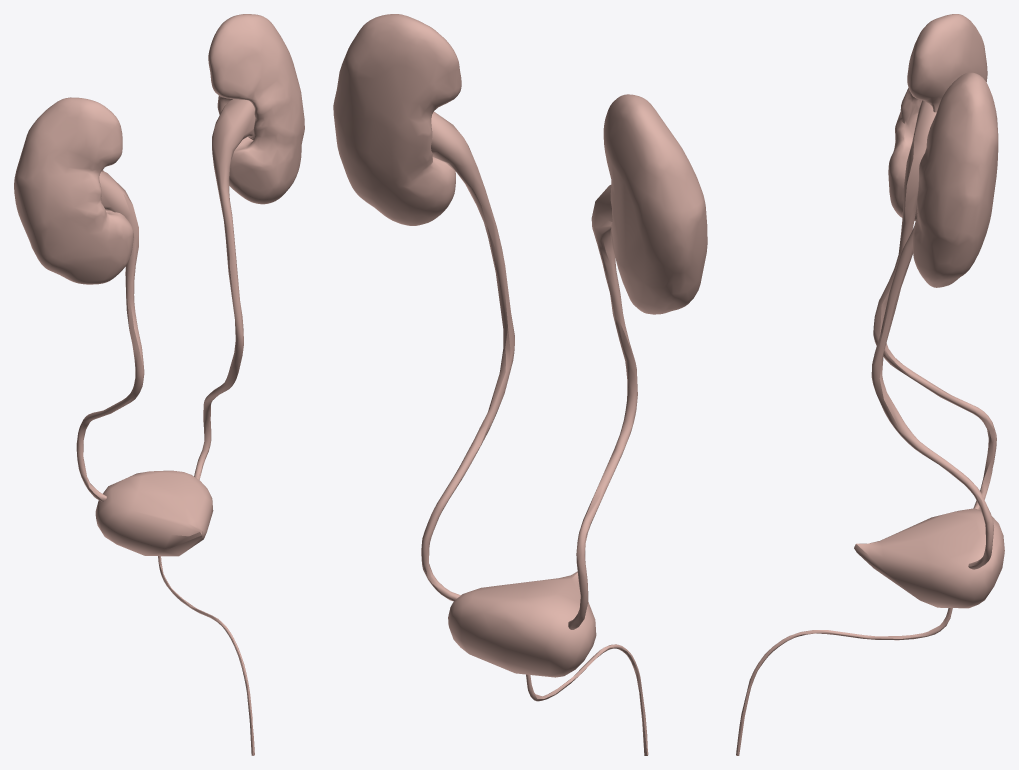
Rendered from organs.glb.
3 views of the same model, side by side, from view 1: azimuth 30°, elevation 25°; view 2: azimuth 150°, elevation 25°; view 3: azimuth 270°, elevation 25° (orthographic). The views are drawn at different scales.
Visible parts, largest first — view 1: bp3d_FMA7204_FJ3147, bp3d_FMA7205_FJ3145, bp3d_FMA15900_FJ3149, bp3d_FMA15572_FJ3144, bp3d_FMA15571_FJ3146, bp3d_FMA19667_FJ3148; view 2: bp3d_FMA7205_FJ3145, bp3d_FMA7204_FJ3147, bp3d_FMA15900_FJ3149, bp3d_FMA15572_FJ3144, bp3d_FMA15571_FJ3146, bp3d_FMA19667_FJ3148; view 3: bp3d_FMA7205_FJ3145, bp3d_FMA15900_FJ3149, bp3d_FMA7204_FJ3147, bp3d_FMA15571_FJ3146, bp3d_FMA15572_FJ3144, bp3d_FMA19667_FJ3148.
Part boxes in pixels (x1,y1,x2,y2): bp3d_FMA7204_FJ3147: [14, 97, 133, 284]; bp3d_FMA7205_FJ3145: [208, 14, 304, 204]; bp3d_FMA15900_FJ3149: [95, 470, 213, 556]; bp3d_FMA15572_FJ3144: [194, 99, 255, 479]; bp3d_FMA15571_FJ3146: [76, 171, 144, 501]; bp3d_FMA19667_FJ3148: [158, 556, 254, 755]; bp3d_FMA7205_FJ3145: [333, 14, 461, 225]; bp3d_FMA7204_FJ3147: [603, 94, 707, 314]; bp3d_FMA15900_FJ3149: [448, 571, 596, 677]; bp3d_FMA15572_FJ3144: [421, 111, 514, 601]; bp3d_FMA15571_FJ3146: [568, 185, 637, 629]; bp3d_FMA19667_FJ3148: [526, 644, 648, 755]; bp3d_FMA7205_FJ3145: [913, 72, 998, 287]; bp3d_FMA15900_FJ3149: [854, 508, 1004, 608]; bp3d_FMA7204_FJ3147: [888, 14, 987, 220]; bp3d_FMA15571_FJ3146: [873, 100, 996, 510]; bp3d_FMA15572_FJ3144: [871, 226, 993, 569]; bp3d_FMA19667_FJ3148: [736, 608, 952, 755].
Size of the model in its own units: 0.178 by 0.3819 by 0.1276.
